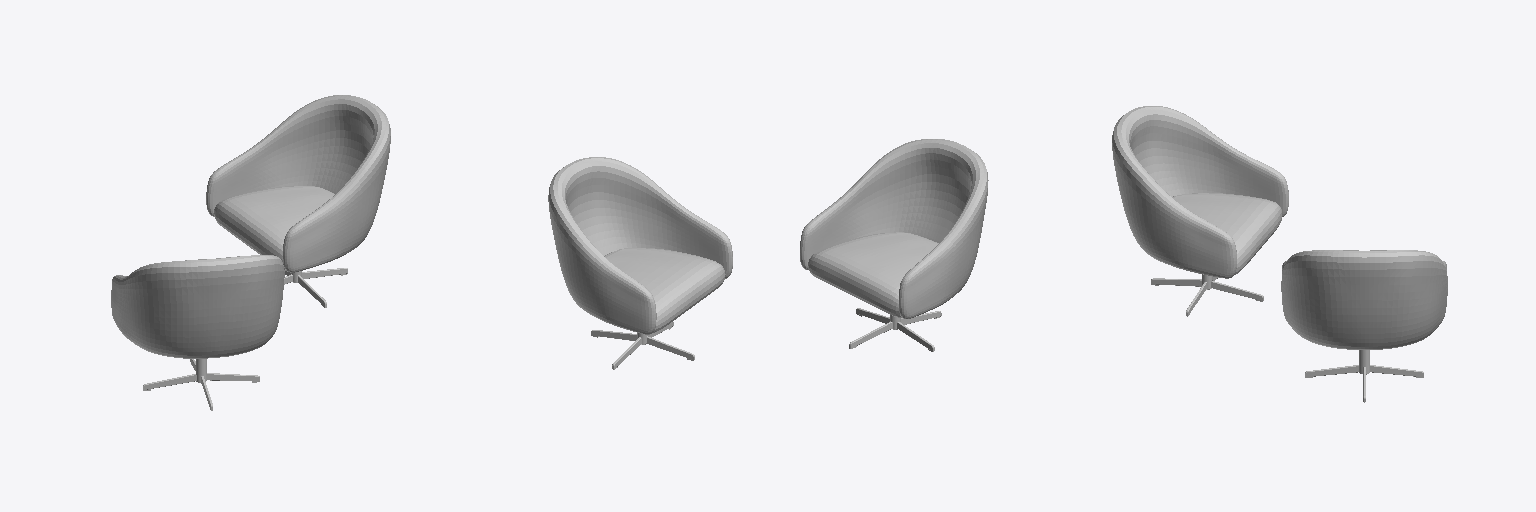
The model's file is dublin_chair.obj.
3 views of the same model, side by side, from view 1: azimuth 30°, elevation 25°; view 2: azimuth 150°, elevation 25°; view 3: azimuth 270°, elevation 25° (orthographic).
Parts seen in each view (by area): view 1: obj2, obj3, obj4, obj1; view 2: obj3, obj2, obj4, obj1; view 3: obj3, obj2, obj1, obj4.
Part boxes in pixels (bbox=[...]): obj2: bbox=[206, 95, 390, 272]; obj3: bbox=[111, 255, 284, 358]; obj4: bbox=[143, 359, 259, 410]; obj1: bbox=[284, 268, 347, 307]; obj3: bbox=[800, 139, 988, 318]; obj2: bbox=[548, 157, 732, 334]; obj4: bbox=[849, 308, 941, 351]; obj1: bbox=[591, 322, 694, 369]; obj3: bbox=[1112, 106, 1288, 278]; obj2: bbox=[1281, 250, 1447, 349]; obj1: bbox=[1305, 350, 1423, 402]; obj4: bbox=[1151, 274, 1263, 316].
Size of the model in its own units: 183 by 86.25 by 161.